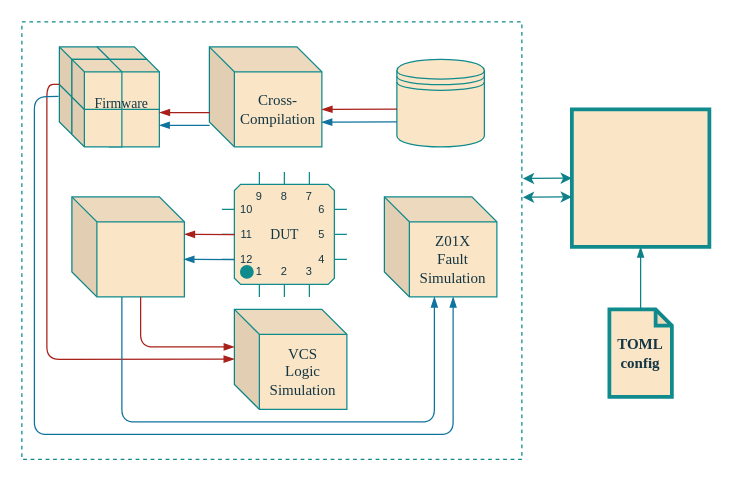
Some shapes in this 733 by 481 pixel diagram are drawn without their labels. Here are the shapes that lost their labels. From the top down, the centre of each, then its label:
At (440,102): "STL".
At (640,177): "TestCrush".
At (127,246): "VCS Sources Compilation".
